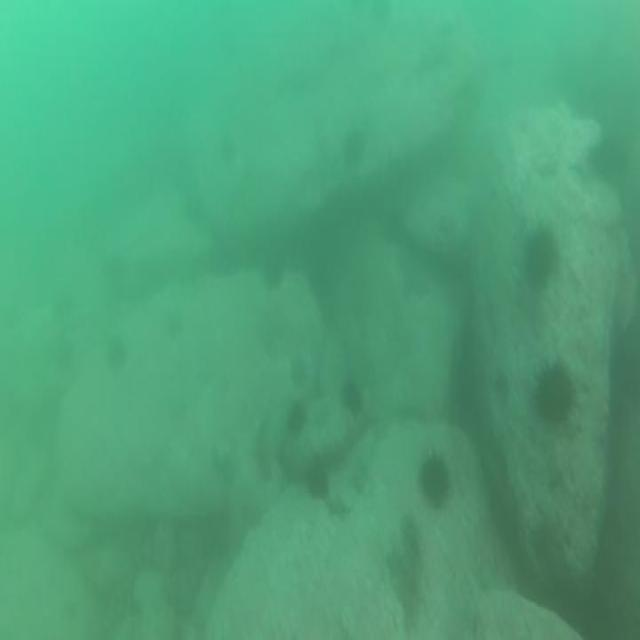echinus: (530, 354, 576, 431), (521, 218, 563, 291), (418, 447, 452, 514), (341, 126, 372, 174), (303, 460, 331, 504), (102, 330, 128, 376), (286, 398, 308, 439), (262, 258, 286, 294), (340, 381, 362, 419)
starfish: (398, 577, 422, 635), (384, 544, 410, 596), (398, 514, 422, 560), (322, 492, 352, 526), (287, 354, 311, 390)
